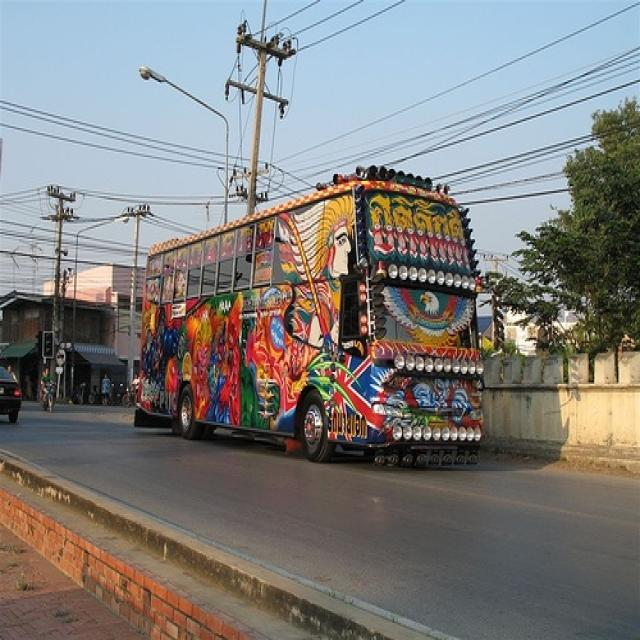bus: (133, 165, 483, 466)
